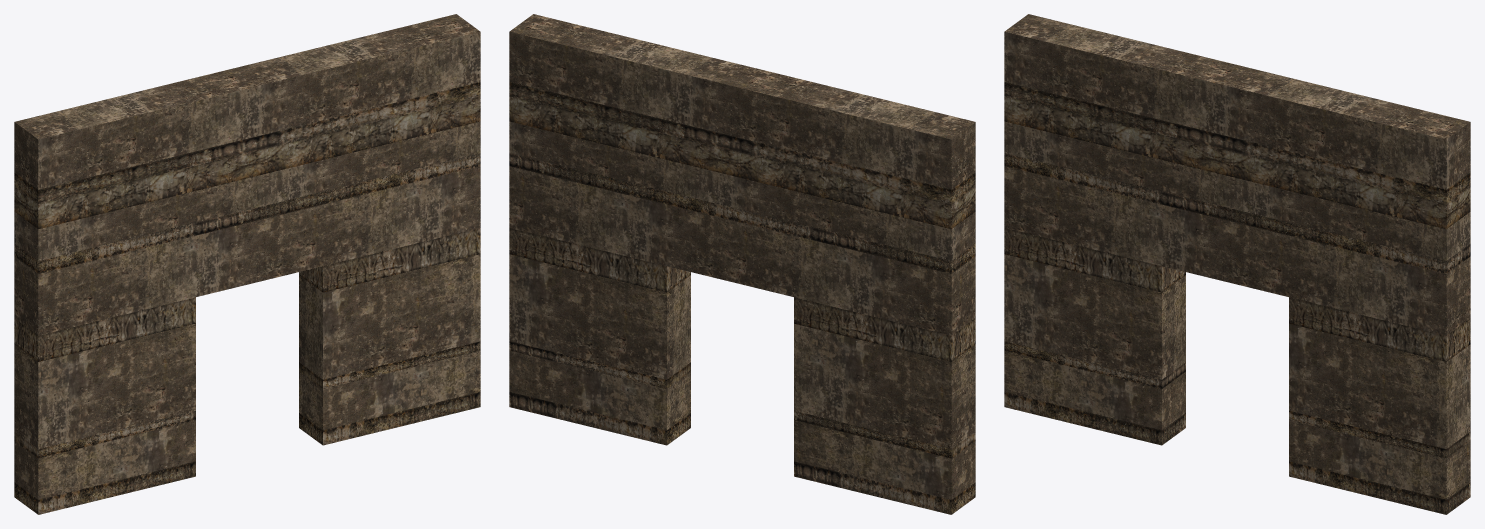
The model's file is materials_5_wall_rectangle_5.fbx.
3 views of the same model, side by side, from view 1: azimuth 30°, elevation 25°; view 2: azimuth 150°, elevation 25°; view 3: azimuth 330°, elevation 25° (orthographic).
Visible parts, largest first — view 1: materials_5_wall_rectangle_5; view 2: materials_5_wall_rectangle_5; view 3: materials_5_wall_rectangle_5.
Part boxes in pixels (left/top/right/bottom): materials_5_wall_rectangle_5: left=14, top=14, right=480, bottom=514; materials_5_wall_rectangle_5: left=509, top=14, right=975, bottom=514; materials_5_wall_rectangle_5: left=1004, top=14, right=1470, bottom=514.
Size of the model in its own units: 567 by 460 by 53.56.
